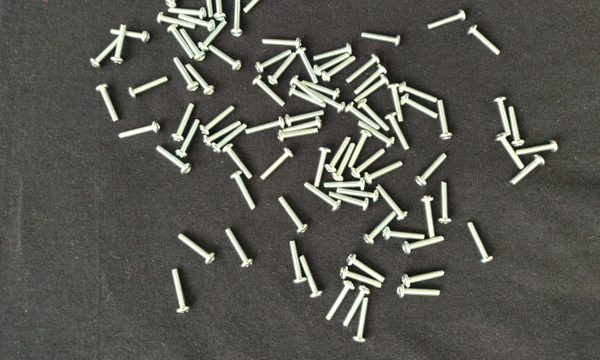longscrew: (172, 233, 216, 266), (222, 228, 254, 268), (223, 144, 255, 184), (343, 284, 372, 326), (324, 280, 353, 322), (226, 173, 257, 212), (277, 194, 308, 233), (467, 26, 506, 56), (416, 154, 453, 185), (397, 94, 441, 120), (340, 268, 384, 294), (301, 86, 345, 112), (425, 5, 469, 30), (117, 119, 161, 144), (127, 75, 171, 100), (398, 280, 442, 305), (343, 255, 387, 280), (178, 26, 208, 62), (387, 110, 412, 153), (399, 77, 442, 102), (403, 265, 446, 290), (164, 25, 194, 60), (380, 185, 408, 222), (512, 155, 544, 187), (365, 210, 395, 244), (289, 84, 324, 113), (158, 146, 193, 175), (183, 65, 218, 94), (353, 75, 389, 103), (258, 150, 294, 178), (289, 75, 325, 103), (349, 130, 376, 167), (252, 77, 285, 107), (199, 108, 237, 134), (345, 55, 380, 83), (352, 66, 387, 94), (305, 182, 340, 210), (468, 222, 491, 264), (199, 20, 230, 50), (352, 151, 389, 176), (175, 121, 200, 158), (175, 58, 202, 92), (293, 48, 318, 84), (204, 122, 241, 146), (212, 127, 247, 152), (211, 44, 242, 72), (327, 193, 370, 213), (334, 144, 357, 181), (360, 30, 402, 50), (403, 237, 445, 257), (383, 224, 425, 244), (435, 97, 454, 141), (437, 179, 456, 223), (355, 298, 374, 342), (98, 81, 117, 125), (365, 164, 409, 183), (329, 136, 352, 172), (346, 105, 379, 130), (419, 194, 438, 237), (312, 55, 349, 77), (361, 101, 389, 130), (361, 123, 393, 148), (493, 94, 511, 138), (508, 103, 526, 147), (170, 269, 188, 313), (173, 104, 195, 140), (270, 55, 298, 83), (322, 57, 356, 80), (302, 256, 320, 299), (288, 241, 306, 284), (111, 23, 129, 66), (386, 83, 406, 121), (226, 0, 244, 42), (302, 80, 339, 99), (256, 52, 292, 70), (280, 119, 322, 134), (154, 12, 196, 27), (166, 4, 208, 19), (325, 178, 367, 193), (311, 44, 353, 59), (338, 185, 379, 200), (314, 148, 330, 186), (278, 128, 320, 142), (243, 119, 285, 133), (285, 111, 327, 125), (261, 36, 303, 50), (109, 27, 151, 41), (176, 15, 218, 29), (211, 0, 229, 23), (202, 0, 215, 20)
